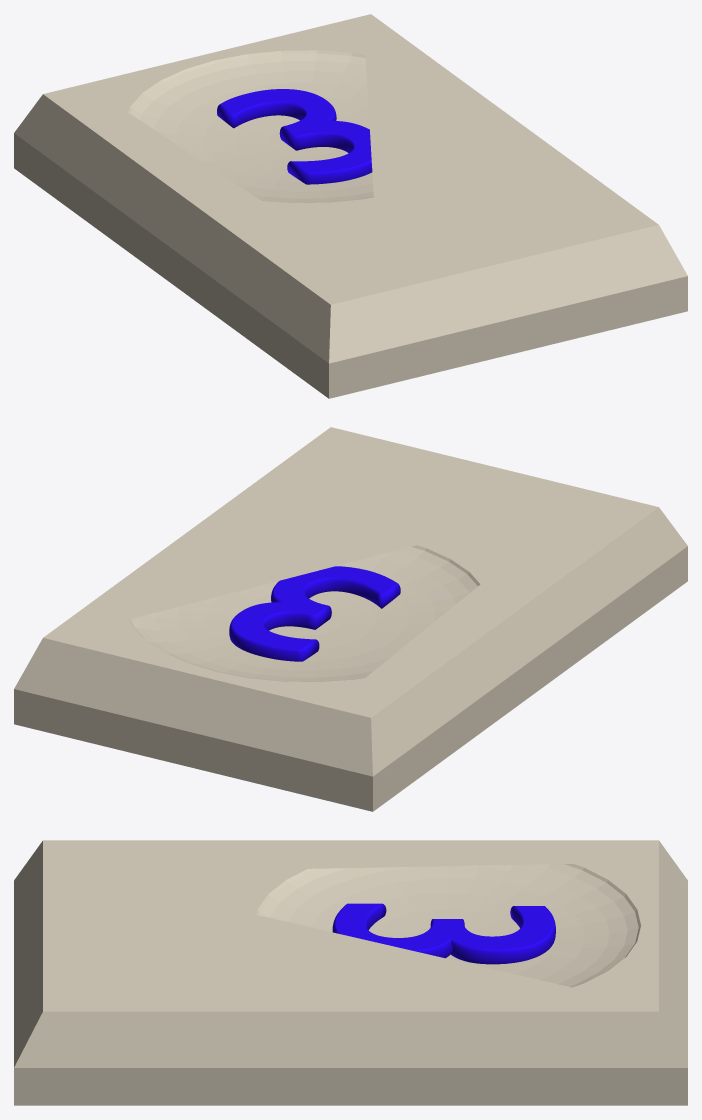
File: bl3_cube_tail.fbx
The picture shows the model from 3 angles, top to bottom: view 1: azimuth 30°, elevation 25°; view 2: azimuth 150°, elevation 25°; view 3: azimuth 270°, elevation 25°; orthographic projection. The views are drawn at different scales.
Visible parts, largest first — view 1: 큐브, 숫자; view 2: 큐브, 숫자; view 3: 큐브, 숫자.
Part boxes in pixels (x1,y1,x2,y2): 큐브: (14, 14, 687, 398); 숫자: (217, 89, 372, 184); 큐브: (14, 427, 687, 811); 숫자: (229, 566, 400, 661); 큐브: (14, 840, 687, 1105); 숫자: (332, 903, 555, 964).
Bounding box in the file's own units: 500 × 107 × 760.
